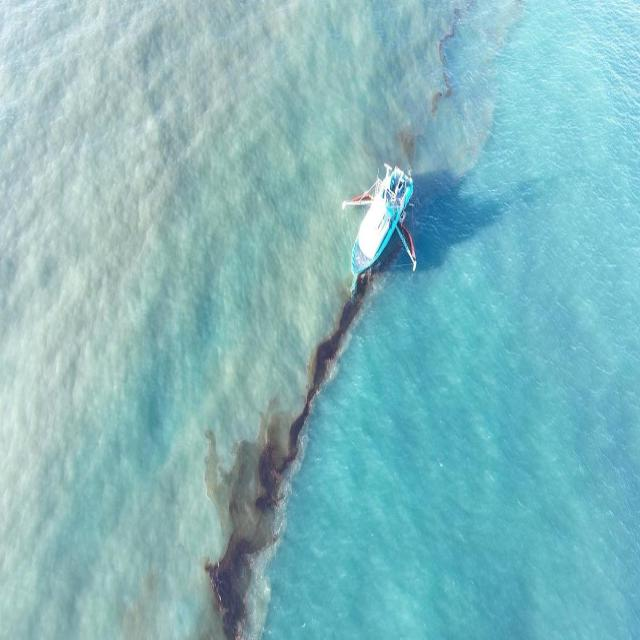truecolor: (205, 276, 373, 640)
